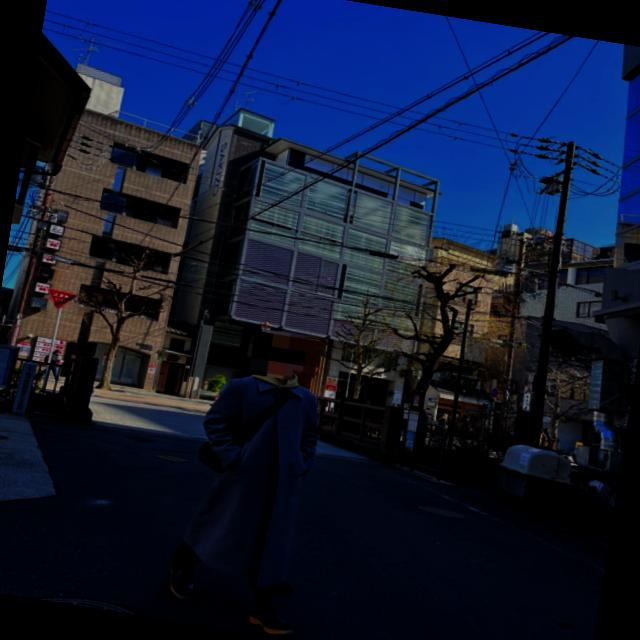coat: (173, 367, 329, 592)
